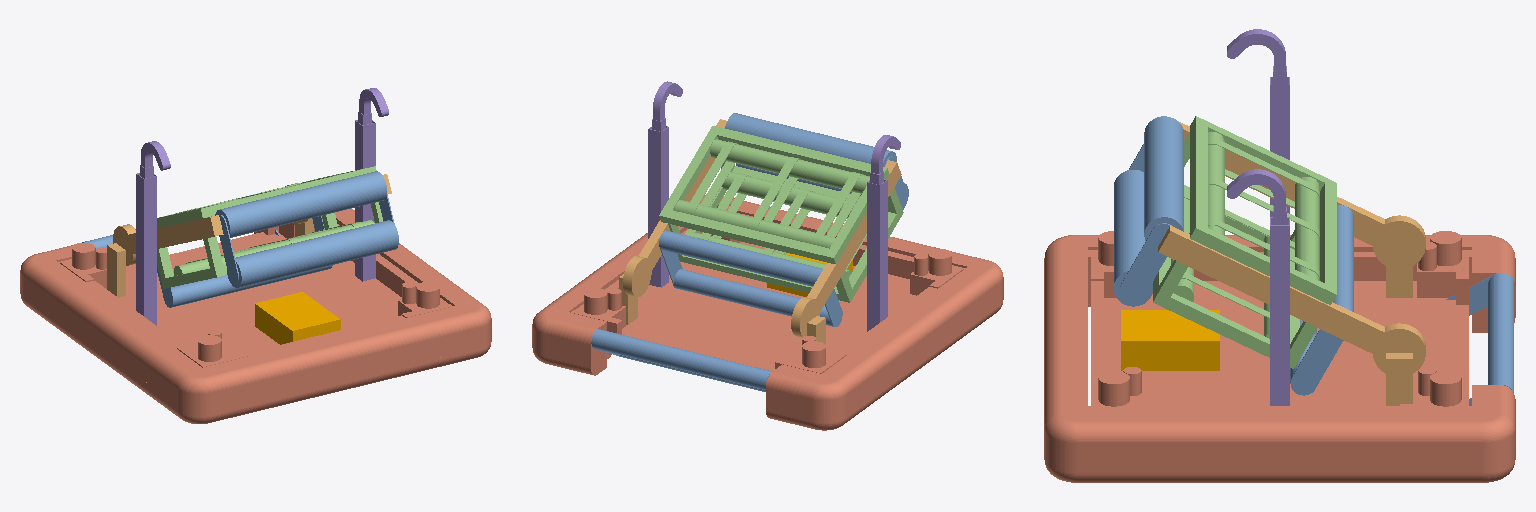
robot.urdf — [local-path]\Skynest_RPS_4328\src\my-robot:
<?xml version="1.0" ?>
<!-- Generated using onshape-to-robot -->
<!-- Onshape document_id: 8b5b6ea4aa5d45dd076e7ef6 -->
<robot name="[local-path]\Skynest_RPS_4328\src\my-robot">
  <!-- Link swerve__aac1e981ec072e04fdcf02d311d393be -->
  <link name="swerve__aac1e981ec072e04fdcf02d311d393be">
    <inertial>
      <origin xyz="1.38778e-17 -0.218734 0.03175" rpy="0 0 0"/>
      <mass value="13.2658"/>
      <inertia ixx="0.044576" ixy="0" ixz="0" iyy="0.0260324" iyz="0" izz="0.0616932"/>
    </inertial>
    <!-- Part weight -->
    <visual>
      <origin xyz="-0.06985 -0.313984 0.0635" rpy="3.14159 -0 0"/>
      <geometry>
        <mesh filename="package://assets\weight.stl"/>
      </geometry>
      <material name="weight_material">
        <color rgba="0.980392 0.713725 0.00392157 1"/>
      </material>
    </visual>
    <collision>
      <origin xyz="-0.06985 -0.313984 0.0635" rpy="3.14159 -0 0"/>
      <geometry>
        <mesh filename="package://assets\weight.stl"/>
      </geometry>
    </collision>
    <!-- Part generic_structure_piece__7db8c0a4a3a477c2fe3454001be9dcb5 -->
    <visual>
      <origin xyz="-0.27305 0.219416 0.0635" rpy="1.5708 -0 0"/>
      <geometry>
        <mesh filename="package://assets\generic_structure_piece__7db8c0a4a3a477c2fe3454001be9dcb5.stl"/>
      </geometry>
      <material name="generic_structure_piece__7db8c0a4a3a477c2fe3454001be9dcb5_material">
        <color rgba="0.917647 0.72549 0.490196 1"/>
      </material>
    </visual>
    <collision>
      <origin xyz="-0.27305 0.219416 0.0635" rpy="1.5708 -0 0"/>
      <geometry>
        <mesh filename="package://assets\generic_structure_piece__7db8c0a4a3a477c2fe3454001be9dcb5.stl"/>
      </geometry>
    </collision>
    <!-- Part swerve__2f06a5375ff9745c7beb3236907a4558 -->
    <visual>
      <origin xyz="7.35718e-18 -0.00918414 -0.06985" rpy="0 -0 0"/>
      <geometry>
        <mesh filename="package://assets\swerve__2f06a5375ff9745c7beb3236907a4558.stl"/>
      </geometry>
      <material name="swerve__2f06a5375ff9745c7beb3236907a4558_material">
        <color rgba="0.882353 0.572549 0.478431 1"/>
      </material>
    </visual>
    <collision>
      <origin xyz="7.35718e-18 -0.00918414 -0.06985" rpy="0 -0 0"/>
      <geometry>
        <mesh filename="package://assets\swerve__2f06a5375ff9745c7beb3236907a4558.stl"/>
      </geometry>
    </collision>
    <!-- Part horizontal_roller__fb9e0fac6f99e159a67c7bf116795558 -->
    <visual>
      <origin xyz="1.66533e-16 0.282128 -0.04445" rpy="2.61799 -8.32667e-17 -3.14159"/>
      <geometry>
        <mesh filename="package://assets\horizontal_roller__fb9e0fac6f99e159a67c7bf116795558.stl"/>
      </geometry>
      <material name="horizontal_roller__fb9e0fac6f99e159a67c7bf116795558_material">
        <color rgba="0.541176 0.682353 0.839216 1"/>
      </material>
    </visual>
    <collision>
      <origin xyz="1.66533e-16 0.282128 -0.04445" rpy="2.61799 -8.32667e-17 -3.14159"/>
      <geometry>
        <mesh filename="package://assets\horizontal_roller__fb9e0fac6f99e159a67c7bf116795558.stl"/>
      </geometry>
    </collision>
    <!-- Part generic_structure_piece__7db8c0a4a3a477c2fe3454001be9dcb5_2 -->
    <visual>
      <origin xyz="0.27305 0.219416 0.0635" rpy="1.5708 -0 0"/>
      <geometry>
        <mesh filename="package://assets\generic_structure_piece__7db8c0a4a3a477c2fe3454001be9dcb5.stl"/>
      </geometry>
      <material name="generic_structure_piece__7db8c0a4a3a477c2fe3454001be9dcb5_2_material">
        <color rgba="0.917647 0.72549 0.490196 1"/>
      </material>
    </visual>
    <collision>
      <origin xyz="0.27305 0.219416 0.0635" rpy="1.5708 -0 0"/>
      <geometry>
        <mesh filename="package://assets\generic_structure_piece__7db8c0a4a3a477c2fe3454001be9dcb5.stl"/>
      </geometry>
    </collision>
    <!-- Part stage_1__484c10e432fd6bf4e16cde51157dc6f1 -->
    <visual>
      <origin xyz="-0.3175 -0.00918414 1.01828e-15" rpy="-1.75137e-15 8.16075e-16 1.5708"/>
      <geometry>
        <mesh filename="package://assets\stage_1__484c10e432fd6bf4e16cde51157dc6f1.stl"/>
      </geometry>
      <material name="stage_1__484c10e432fd6bf4e16cde51157dc6f1_material">
        <color rgba="0.654902 0.584314 0.823529 1"/>
      </material>
    </visual>
    <collision>
      <origin xyz="-0.3175 -0.00918414 1.01828e-15" rpy="-1.75137e-15 8.16075e-16 1.5708"/>
      <geometry>
        <mesh filename="package://assets\stage_1__484c10e432fd6bf4e16cde51157dc6f1.stl"/>
      </geometry>
    </collision>
    <!-- Part stage_2__484c10e432fd6bf4e16cde51157dc6f1 -->
    <visual>
      <origin xyz="-0.3175 -0.00918414 3.33637e-17" rpy="-1.75137e-15 2.08505e-16 1.5708"/>
      <geometry>
        <mesh filename="package://assets\stage_2__484c10e432fd6bf4e16cde51157dc6f1.stl"/>
      </geometry>
      <material name="stage_2__484c10e432fd6bf4e16cde51157dc6f1_material">
        <color rgba="0.654902 0.584314 0.823529 1"/>
      </material>
    </visual>
    <collision>
      <origin xyz="-0.3175 -0.00918414 3.33637e-17" rpy="-1.75137e-15 2.08505e-16 1.5708"/>
      <geometry>
        <mesh filename="package://assets\stage_2__484c10e432fd6bf4e16cde51157dc6f1.stl"/>
      </geometry>
    </collision>
    <!-- Part stage_1__484c10e432fd6bf4e16cde51157dc6f1_2 -->
    <visual>
      <origin xyz="0.3175 -0.00918414 9.53231e-16" rpy="4.66044e-16 8.16075e-16 1.5708"/>
      <geometry>
        <mesh filename="package://assets\stage_1__484c10e432fd6bf4e16cde51157dc6f1.stl"/>
      </geometry>
      <material name="stage_1__484c10e432fd6bf4e16cde51157dc6f1_2_material">
        <color rgba="0.654902 0.584314 0.823529 1"/>
      </material>
    </visual>
    <collision>
      <origin xyz="0.3175 -0.00918414 9.53231e-16" rpy="4.66044e-16 8.16075e-16 1.5708"/>
      <geometry>
        <mesh filename="package://assets\stage_1__484c10e432fd6bf4e16cde51157dc6f1.stl"/>
      </geometry>
    </collision>
    <!-- Part stage_2__484c10e432fd6bf4e16cde51157dc6f1_2 -->
    <visual>
      <origin xyz="0.3175 -0.00918414 -3.33637e-17" rpy="-1.75137e-15 2.08505e-16 1.5708"/>
      <geometry>
        <mesh filename="package://assets\stage_2__484c10e432fd6bf4e16cde51157dc6f1.stl"/>
      </geometry>
      <material name="stage_2__484c10e432fd6bf4e16cde51157dc6f1_2_material">
        <color rgba="0.654902 0.584314 0.823529 1"/>
      </material>
    </visual>
    <collision>
      <origin xyz="0.3175 -0.00918414 -3.33637e-17" rpy="-1.75137e-15 2.08505e-16 1.5708"/>
      <geometry>
        <mesh filename="package://assets\stage_2__484c10e432fd6bf4e16cde51157dc6f1.stl"/>
      </geometry>
    </collision>
  </link>
  <!-- Link arm_segment__f3d596783f9f1a53aca529c3683d15b7 -->
  <link name="arm_segment__f3d596783f9f1a53aca529c3683d15b7">
    <inertial>
      <origin xyz="0 0 0" rpy="0 0 0"/>
      <mass value="1e-09"/>
      <inertia ixx="1e-09" ixy="0" ixz="0" iyy="1e-09" iyz="0" izz="1e-09"/>
    </inertial>
    <!-- Part arm_segment__f3d596783f9f1a53aca529c3683d15b7 -->
    <visual>
      <origin xyz="-0.254 0 -0.0127" rpy="-1.5708 -1.5708 0"/>
      <geometry>
        <mesh filename="package://assets\arm_segment__f3d596783f9f1a53aca529c3683d15b7.stl"/>
      </geometry>
      <material name="arm_segment__f3d596783f9f1a53aca529c3683d15b7_material">
        <color rgba="0.917647 0.72549 0.490196 1"/>
      </material>
    </visual>
    <collision>
      <origin xyz="-0.254 0 -0.0127" rpy="-1.5708 -1.5708 0"/>
      <geometry>
        <mesh filename="package://assets\arm_segment__f3d596783f9f1a53aca529c3683d15b7.stl"/>
      </geometry>
    </collision>
    <!-- Part configurable_ball_tunnel__94c8332c3d2a75d8e1ad241703f6312b -->
    <visual>
      <origin xyz="-0.314097 -0.0381 -0.26035" rpy="-3.14159 -1.5708 0"/>
      <geometry>
        <mesh filename="package://assets\configurable_ball_tunnel__94c8332c3d2a75d8e1ad241703f6312b.stl"/>
      </geometry>
      <material name="configurable_ball_tunnel__94c8332c3d2a75d8e1ad241703f6312b_material">
        <color rgba="0.654902 0.823529 0.576471 1"/>
      </material>
    </visual>
    <collision>
      <origin xyz="-0.314097 -0.0381 -0.26035" rpy="-3.14159 -1.5708 0"/>
      <geometry>
        <mesh filename="package://assets\configurable_ball_tunnel__94c8332c3d2a75d8e1ad241703f6312b.stl"/>
      </geometry>
    </collision>
    <!-- Part arm_segment__f3d596783f9f1a53aca529c3683d15b7_2 -->
    <visual>
      <origin xyz="-0.254 -1.38778e-16 -0.50165" rpy="-1.5708 -1.5708 0"/>
      <geometry>
        <mesh filename="package://assets\arm_segment__f3d596783f9f1a53aca529c3683d15b7.stl"/>
      </geometry>
      <material name="arm_segment__f3d596783f9f1a53aca529c3683d15b7_2_material">
        <color rgba="0.917647 0.72549 0.490196 1"/>
      </material>
    </visual>
    <collision>
      <origin xyz="-0.254 -1.38778e-16 -0.50165" rpy="-1.5708 -1.5708 0"/>
      <geometry>
        <mesh filename="package://assets\arm_segment__f3d596783f9f1a53aca529c3683d15b7.stl"/>
      </geometry>
    </collision>
    <!-- Part horizontal_roller__63510fac1804c212f223d5df13e26088 -->
    <visual>
      <origin xyz="-0.508 1.33227e-15 -0.257175" rpy="3.14159 1.5708 0"/>
      <geometry>
        <mesh filename="package://assets\horizontal_roller__63510fac1804c212f223d5df13e26088.stl"/>
      </geometry>
      <material name="horizontal_roller__63510fac1804c212f223d5df13e26088_material">
        <color rgba="0.541176 0.682353 0.839216 1"/>
      </material>
    </visual>
    <collision>
      <origin xyz="-0.508 1.33227e-15 -0.257175" rpy="3.14159 1.5708 0"/>
      <geometry>
        <mesh filename="package://assets\horizontal_roller__63510fac1804c212f223d5df13e26088.stl"/>
      </geometry>
    </collision>
    <!-- Part horizontal_roller__9351daac2b97eade60ab45f49190e71a -->
    <visual>
      <origin xyz="-0.127 -0.1524 -0.257175" rpy="1.70689e-15 -1.5708 0"/>
      <geometry>
        <mesh filename="package://assets\horizontal_roller__9351daac2b97eade60ab45f49190e71a.stl"/>
      </geometry>
      <material name="horizontal_roller__9351daac2b97eade60ab45f49190e71a_material">
        <color rgba="0.541176 0.682353 0.839216 1"/>
      </material>
    </visual>
    <collision>
      <origin xyz="-0.127 -0.1524 -0.257175" rpy="1.70689e-15 -1.5708 0"/>
      <geometry>
        <mesh filename="package://assets\horizontal_roller__9351daac2b97eade60ab45f49190e71a.stl"/>
      </geometry>
    </collision>
  </link>
  <!-- Joint from swerve__aac1e981ec072e04fdcf02d311d393be to arm_segment__f3d596783f9f1a53aca529c3683d15b7 -->
  <joint name="FRC_intake" type="revolute">
    <origin xyz="0.26035 0.219416 0.127" rpy="1.5708 0.48205 1.5708"/>
    <parent link="swerve__aac1e981ec072e04fdcf02d311d393be"/>
    <child link="arm_segment__f3d596783f9f1a53aca529c3683d15b7"/>
    <axis xyz="0 0 1"/>
    <limit effort="10" velocity="10" lower="-3.141592653589793" upper="3.141592653589793"/>
  </joint>
</robot>

--- Facts derived from the render (not from the file) ---
3 views of the same robot in one strip: view 1: azimuth 30°, elevation 25°; view 2: azimuth 150°, elevation 25°; view 3: azimuth 270°, elevation 25° (orthographic).
Robot: [local-path]\Skynest_RPS_4328\src\my-robot — 2 links, 1 joints (1 revolute); root link swerve__aac1e981ec072e04fdcf02d311d393be; default pose: every joint at zero.
Links seen in each view (by area): view 1: swerve__aac1e981ec072e04fdcf02d311d393be, arm_segment__f3d596783f9f1a53aca529c3683d15b7; view 2: swerve__aac1e981ec072e04fdcf02d311d393be, arm_segment__f3d596783f9f1a53aca529c3683d15b7; view 3: swerve__aac1e981ec072e04fdcf02d311d393be, arm_segment__f3d596783f9f1a53aca529c3683d15b7.
Link boxes in pixels (bbox=[...]): swerve__aac1e981ec072e04fdcf02d311d393be: bbox=[20, 88, 491, 423]; arm_segment__f3d596783f9f1a53aca529c3683d15b7: bbox=[113, 166, 398, 307]; swerve__aac1e981ec072e04fdcf02d311d393be: bbox=[532, 81, 1003, 430]; arm_segment__f3d596783f9f1a53aca529c3683d15b7: bbox=[623, 113, 908, 337]; swerve__aac1e981ec072e04fdcf02d311d393be: bbox=[1044, 29, 1515, 482]; arm_segment__f3d596783f9f1a53aca529c3683d15b7: bbox=[1114, 116, 1425, 395].
Bounding box of the posed robot: 0.9017 × 0.9017 × 0.6064 m (x, y, z).
14 mesh visuals loaded from 10 distinct referenced files (10 binary STL).
